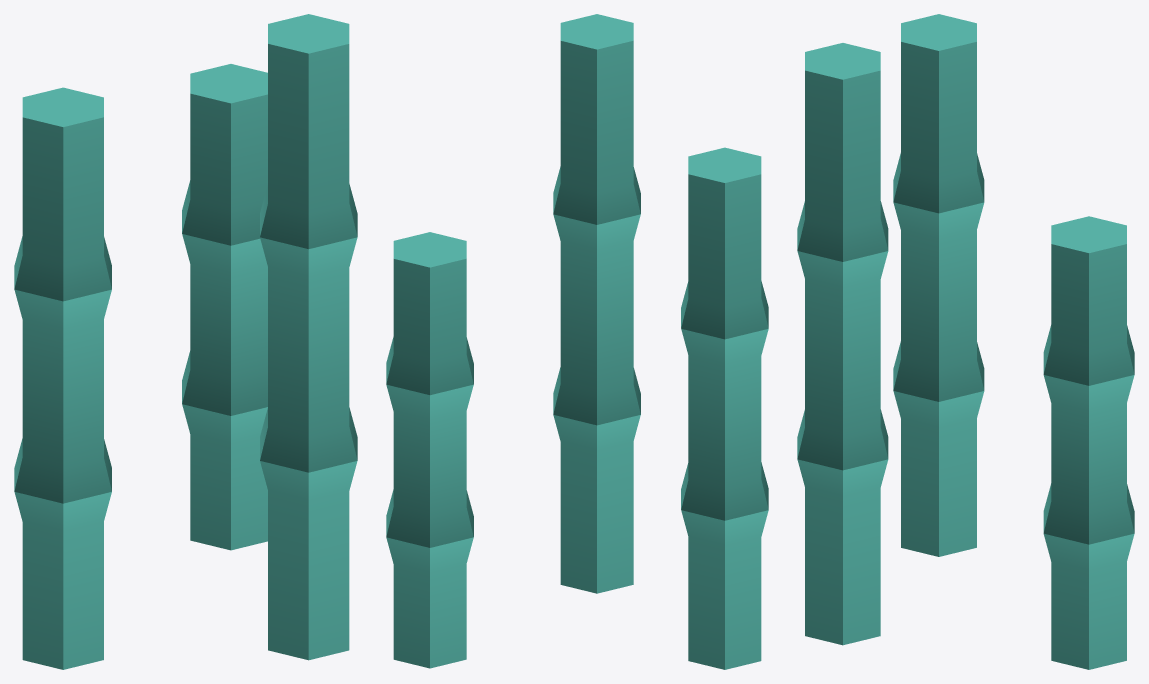
Rendered from bamboo.obj.
The picture shows the model from 3 angles, left to right: view 1: azimuth 30°, elevation 25°; view 2: azimuth 150°, elevation 25°; view 3: azimuth 270°, elevation 25°; orthographic projection. The views are drawn at different scales.
Parts seen in each view (by area): view 1: bamboo; view 2: bamboo; view 3: bamboo.
Boxes of the visible parts, x1=… form: bamboo: x1=14, y1=14, x2=357, y2=669; bamboo: x1=386, y1=14, x2=768, y2=669; bamboo: x1=797, y1=14, x2=1134, y2=669.
Size of the model in its own units: 3.4 by 5.7 by 3.08.
